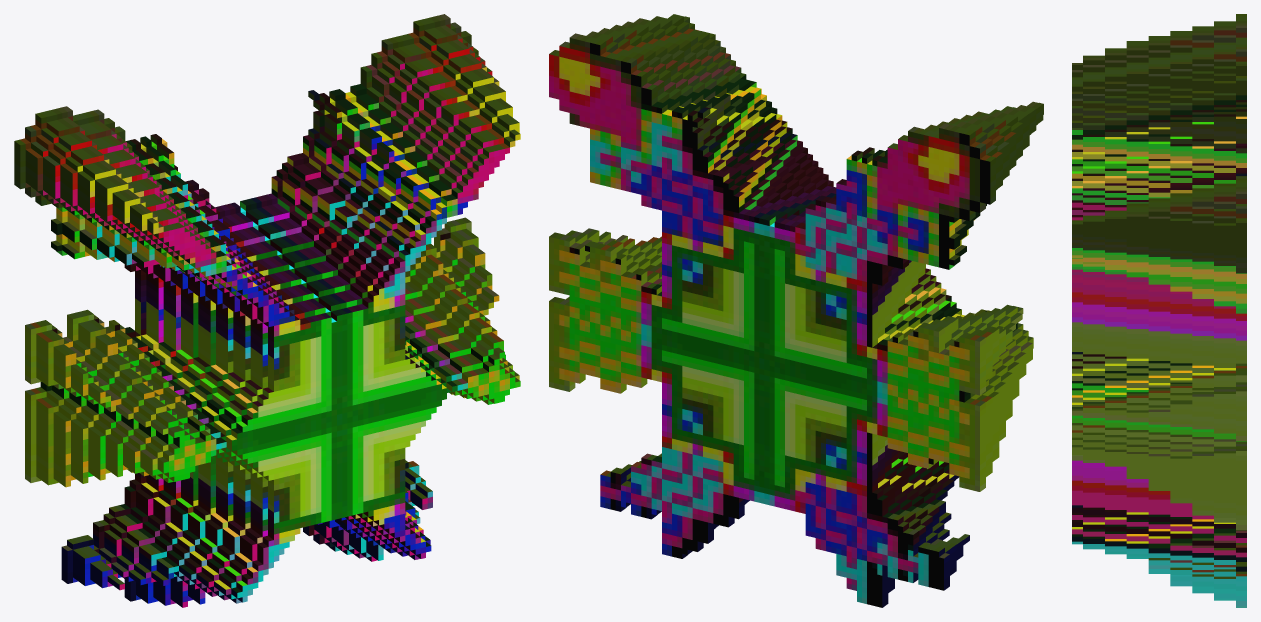
File: dreamlingP19.obj
3 renders of one model, left to right at view 1: azimuth 30°, elevation 25°; view 2: azimuth 150°, elevation 25°; view 3: azimuth 270°, elevation 25°, orthographic. The views are drawn at different scales.
Bounding box in the file's own units: 86 × 92 × 32.
